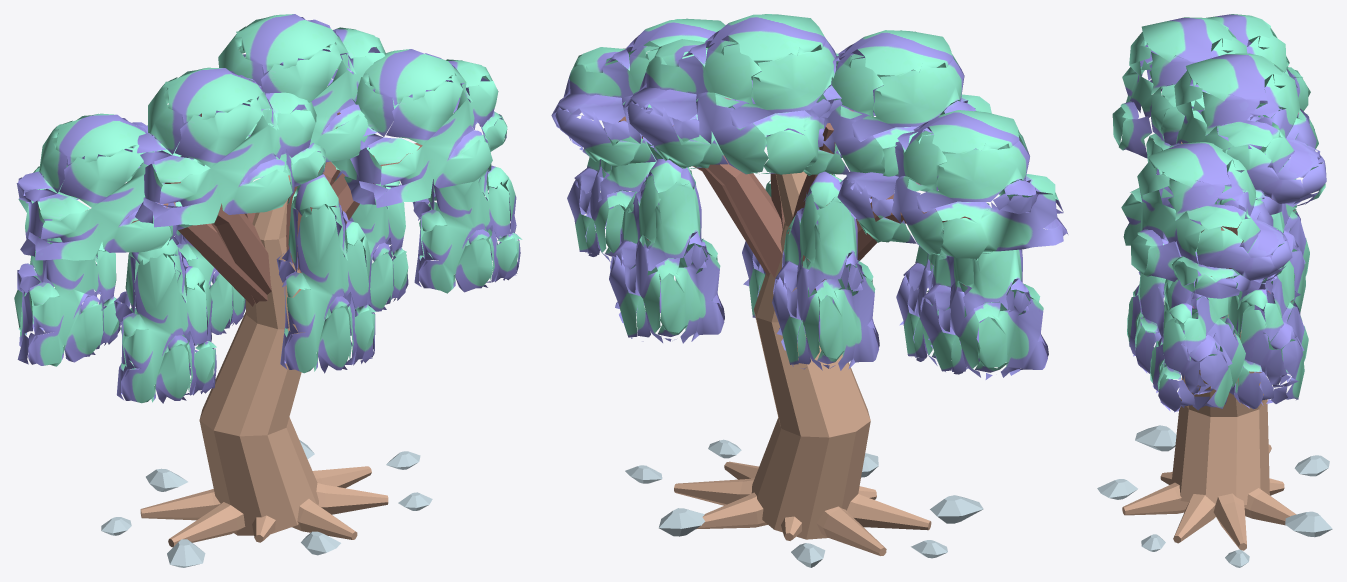
File: lagoon_tree_weeping_willow.glb
The picture shows the model from 3 angles, left to right: view 1: azimuth 30°, elevation 25°; view 2: azimuth 150°, elevation 25°; view 3: azimuth 270°, elevation 25°; orthographic projection. The views are drawn at different scales.
Visible parts, largest first — view 1: lagoon_tree_weeping_willow.001; view 2: lagoon_tree_weeping_willow.001; view 3: lagoon_tree_weeping_willow.001.
Part boxes in pixels (box(x1,y1,x2,y2)): lagoon_tree_weeping_willow.001: box(14, 14, 522, 567); lagoon_tree_weeping_willow.001: box(551, 14, 1068, 567); lagoon_tree_weeping_willow.001: box(1097, 14, 1332, 567).
Bounding box in the file's own units: 8.24 × 7.94 × 3.69.
4 materials, 1 textured.
